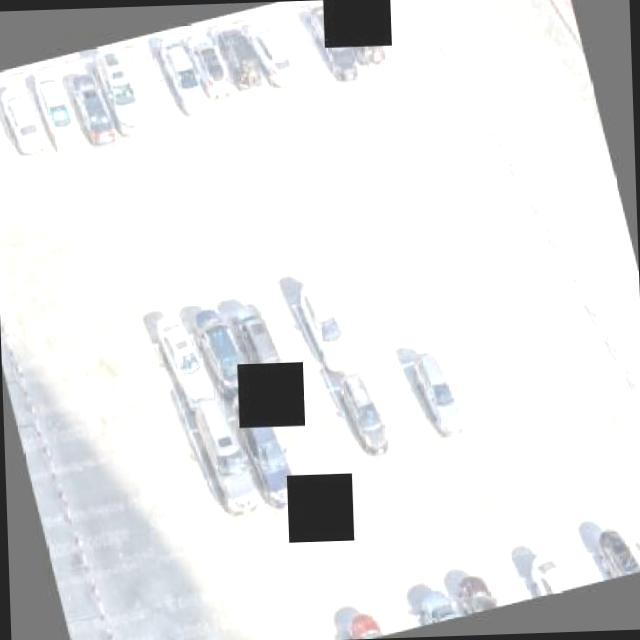car: (398, 340, 470, 440), (194, 402, 255, 514), (296, 279, 358, 380), (326, 367, 394, 458), (91, 43, 148, 142), (242, 406, 298, 504), (156, 314, 212, 404), (24, 65, 78, 156), (148, 32, 206, 116), (196, 306, 248, 399), (300, 3, 358, 82), (242, 15, 302, 90), (233, 304, 283, 374), (0, 82, 43, 159), (188, 29, 232, 103), (589, 519, 640, 582), (221, 23, 265, 88), (74, 82, 114, 148), (414, 585, 466, 631), (342, 598, 392, 640), (526, 548, 568, 598), (462, 575, 498, 612)
